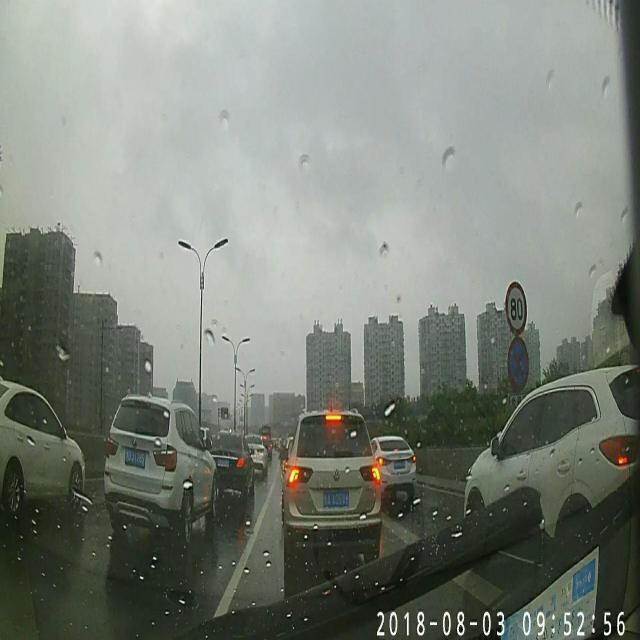car: (463, 363, 640, 534), (102, 393, 216, 540), (278, 408, 381, 556), (0, 379, 85, 512), (208, 428, 256, 494), (372, 436, 416, 500), (245, 432, 268, 477)
